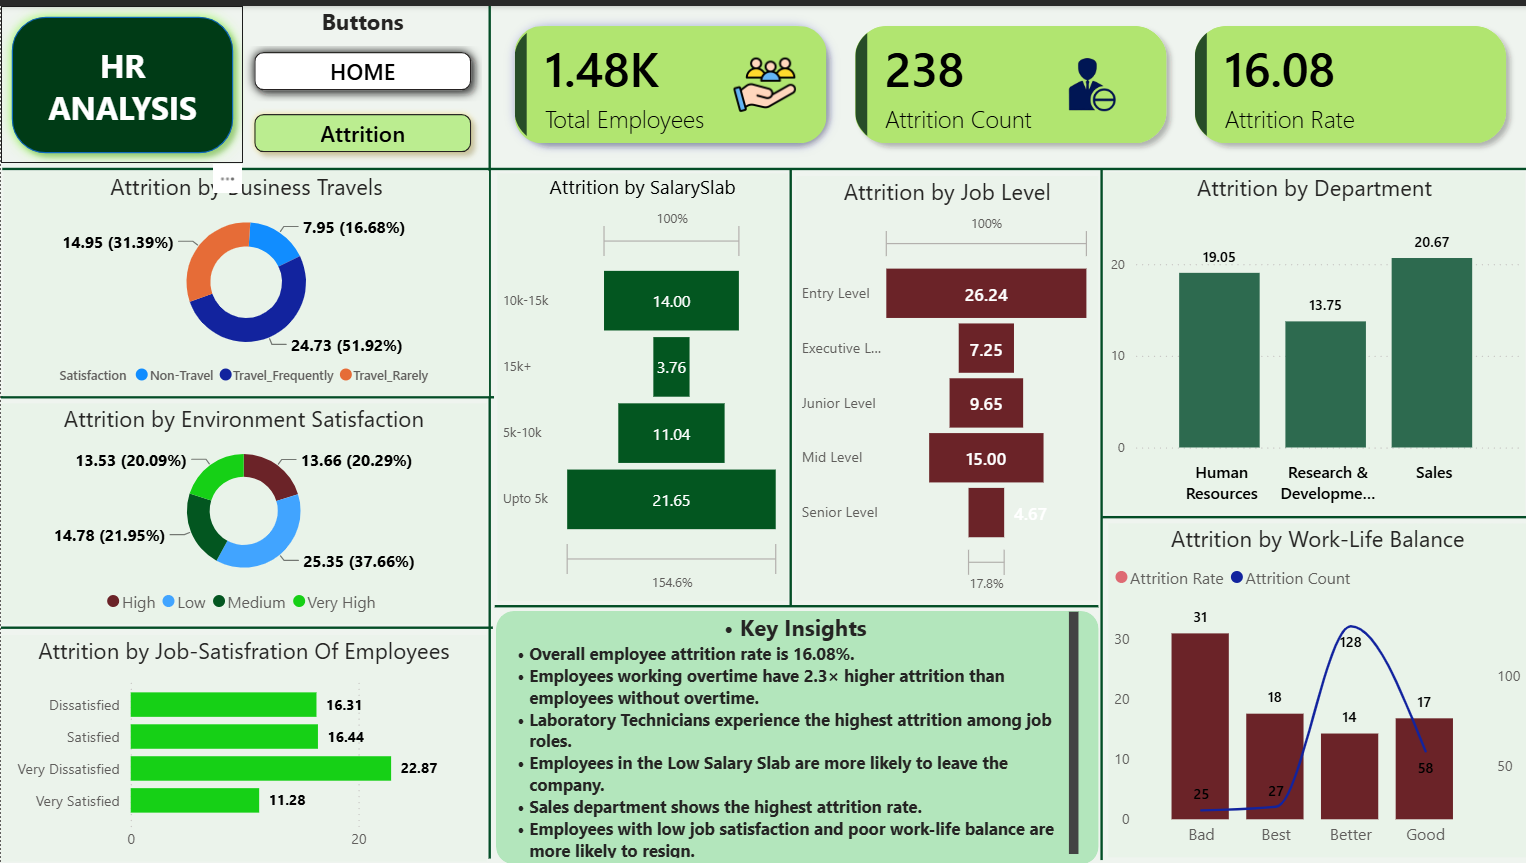

What the dashboard file says about the page in this screenshot:
{"tool":"powerbi","page":{"name":"Home ","canvas":[1280,720],"ordinal":0},"visuals":[{"type":"shape","box":[1.2,131.2,1278.8,11.2],"z":6000},{"type":"shape","box":[923.6,423.9,357.2,10.3],"z":7000},{"type":"shape","box":[917.8,137.8,11.5,578.9],"z":8000},{"type":"shape","box":[403.8,0,12.5,715],"z":9000},{"type":"shape","box":[657.5,137.5,10,366.2],"z":11000},{"type":"shape","title":"Shape(H)","box":[413.8,498.8,506.2,8.8],"z":13000},{"type":"shape","title":"Shape(H)","box":[0,322.2,413.5,12.6],"z":14000},{"type":"shape","title":"Shape(H)","box":[0,516.2,412.5,11.2],"z":15000},{"type":"cardVisual","fields":{"Data":["HR_Analytics.Total Employees","HR_Analytics.Attrition Count","HR_Analytics.Attrition Rate"]},"box":[413.8,0,866.2,132.5],"z":16000},{"type":"clusteredColumnChart","title":"Attrition by Department","fields":{"Category":["HR_Analytics.Department"],"Y":["HR_Analytics.Attrition Rate"]},"box":[924.7,139,353.8,286],"z":17000},{"type":"lineClusteredColumnComboChart","title":" Attrition by Work-Life Balance ","fields":{"Category":["HR_Analytics.WorkLifeBalance"],"Y":["HR_Analytics.Attrition Rate"],"Y2":["HR_Analytics.Attrition Count"]},"box":[928.8,433.8,351.2,280],"z":18000},{"type":"funnel","title":"Attrition by  Job Level","fields":{"Y":["HR_Analytics.Attrition Rate"],"Category":["HR_Analytics.Job Level Label"]},"box":[666.2,142.5,253.8,356.2],"z":19000},{"type":"funnel","title":"Attrition by SalarySlab","fields":{"Y":["HR_Analytics.Attrition Rate"],"Category":["HR_Analytics.SalarySlab"]},"box":[416.2,140,243.8,358.8],"z":20000},{"type":"donutChart","title":"Attrition by Business Travels","fields":{"Category":["HR_Analytics.BusinessTravel"],"Y":["HR_Analytics.Attrition Rate"]},"box":[2.5,138.8,407.5,188.8],"z":21000},{"type":"donutChart","title":"Attrition by Environment Satisfaction","fields":{"Category":["HR_Analytics.EnvironmentSatisfaction"],"Y":["HR_Analytics.Attrition Rate"]},"box":[0,333.8,407.5,185],"z":22000},{"type":"clusteredBarChart","title":"Attrition by Job-Satisfration Of Employees","fields":{"Category":["HR_Analytics.Job Satisfaction Label"],"Y":["HR_Analytics.Attrition Rate"]},"box":[0,527.5,407.5,190],"z":23000},{"type":"bookmarkNavigator","title":"Buttons","box":[203.8,0,200,132.5],"z":24000},{"type":"shape","box":[0,0,203.8,132.5],"z":25000},{"type":"shape","box":[414.7,507.5,505.4,212.5],"z":26000},{"type":"textbox","box":[417,503.1,491.6,216],"z":28000}]}

Visuals, with their boxes in screenshot pixels (x1, y1, x2, y2), scaled from the page's 1280x720 canvas onto the 1526x863 screenshot:
shape: bbox=(1, 157, 1525, 171)
shape: bbox=(1101, 508, 1525, 520)
shape: bbox=(1094, 165, 1108, 859)
shape: bbox=(481, 0, 496, 857)
shape: bbox=(784, 165, 796, 604)
"Shape(H)" shape: bbox=(493, 598, 1097, 608)
"Shape(H)" shape: bbox=(0, 386, 493, 401)
"Shape(H)" shape: bbox=(0, 619, 492, 632)
cardVisual - HR_Analytics.Total Employees x HR_Analytics.Attrition Count: bbox=(493, 0, 1525, 159)
"Attrition by Department" clusteredColumnChart: bbox=(1102, 167, 1524, 509)
" Attrition by Work-Life Balance " lineClusteredColumnComboChart: bbox=(1107, 520, 1525, 856)
"Attrition by  Job Level" funnel: bbox=(794, 171, 1097, 598)
"Attrition by SalarySlab" funnel: bbox=(496, 168, 787, 598)
"Attrition by Business Travels" donutChart: bbox=(3, 166, 489, 393)
"Attrition by Environment Satisfaction" donutChart: bbox=(0, 400, 486, 622)
"Attrition by Job-Satisfration Of Employees" clusteredBarChart: bbox=(0, 632, 486, 860)
"Buttons" bookmarkNavigator: bbox=(243, 0, 481, 159)
shape: bbox=(0, 0, 243, 159)
shape: bbox=(494, 608, 1097, 862)
textbox: bbox=(497, 603, 1083, 862)
